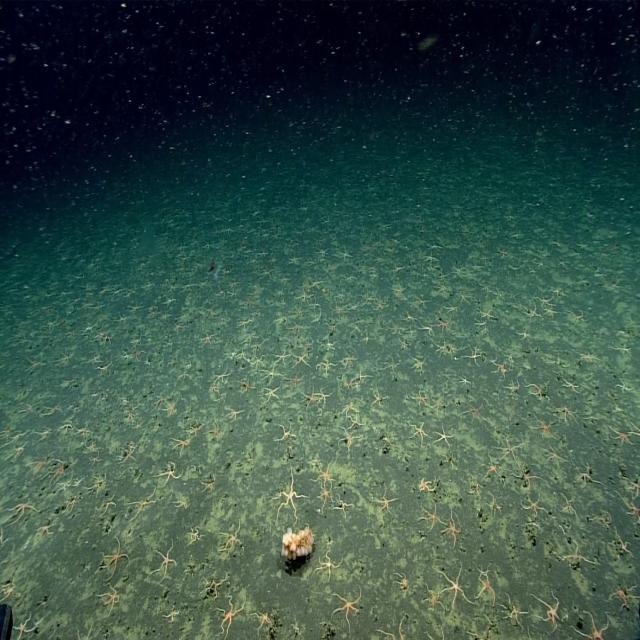brittle-stars: (276, 470, 303, 522), (217, 597, 244, 638), (333, 589, 362, 626), (102, 539, 129, 577), (576, 611, 611, 640), (441, 570, 469, 606), (535, 591, 562, 626), (219, 522, 243, 558), (574, 462, 606, 489), (9, 495, 40, 522), (130, 488, 157, 518), (316, 550, 341, 582), (154, 545, 177, 579), (561, 542, 591, 567), (12, 611, 37, 640), (611, 583, 638, 609), (612, 528, 634, 559), (444, 511, 464, 545), (374, 486, 398, 514), (99, 584, 121, 614), (419, 504, 442, 532), (95, 491, 116, 520), (478, 575, 498, 605), (504, 596, 524, 626), (159, 460, 182, 485), (498, 438, 520, 464), (424, 586, 444, 614), (252, 606, 272, 634), (612, 423, 635, 447), (522, 493, 545, 516), (339, 428, 362, 451), (545, 444, 565, 470), (47, 458, 68, 482), (483, 455, 502, 481), (533, 415, 553, 439), (620, 497, 640, 521), (410, 420, 429, 445), (436, 424, 455, 448), (529, 380, 551, 400), (591, 509, 611, 531), (316, 460, 334, 484), (26, 458, 47, 478), (464, 402, 483, 424), (557, 405, 577, 425), (172, 436, 192, 456), (120, 444, 138, 466), (0, 579, 16, 603), (394, 569, 410, 593), (561, 375, 580, 395), (318, 484, 334, 507), (419, 476, 437, 496), (214, 366, 232, 386), (187, 524, 203, 546), (38, 520, 54, 542), (337, 495, 353, 517), (278, 422, 296, 441), (382, 355, 400, 374), (61, 497, 79, 516), (465, 346, 481, 367), (264, 384, 282, 402), (227, 406, 245, 424), (264, 365, 282, 383), (413, 389, 429, 409), (372, 388, 388, 408), (488, 364, 504, 384), (304, 386, 318, 408), (173, 493, 190, 511), (492, 358, 508, 377), (164, 397, 179, 417), (437, 315, 452, 335), (560, 494, 575, 514), (208, 421, 222, 442), (318, 357, 335, 374), (240, 377, 256, 395), (342, 350, 358, 368), (200, 476, 216, 494), (321, 336, 337, 354), (411, 354, 426, 373), (317, 386, 331, 406), (274, 349, 290, 366), (342, 399, 358, 416), (287, 372, 302, 390), (535, 291, 553, 306), (293, 352, 309, 368), (524, 305, 540, 321), (187, 421, 202, 438), (506, 380, 521, 397), (202, 332, 216, 350), (430, 397, 444, 415), (348, 414, 362, 432), (626, 478, 640, 496), (415, 293, 429, 310), (76, 422, 90, 439), (250, 353, 264, 368), (130, 302, 144, 316), (91, 452, 103, 467), (345, 378, 357, 392), (88, 441, 99, 455), (459, 375, 470, 389)
